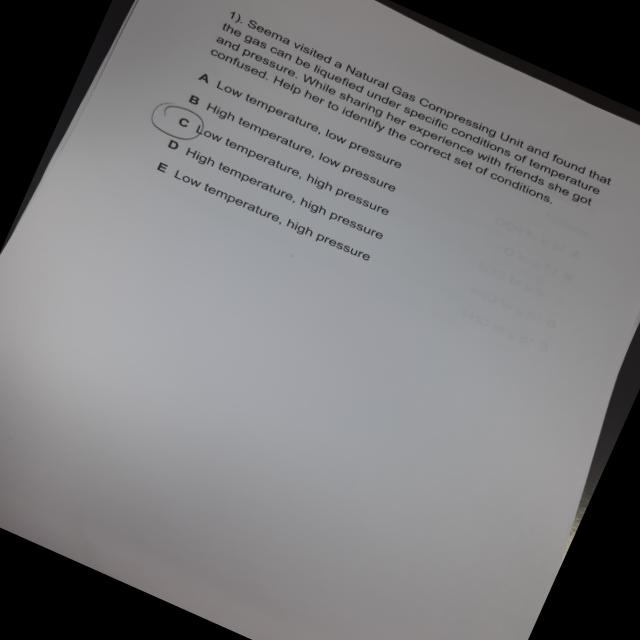C: (142, 95, 214, 151)
